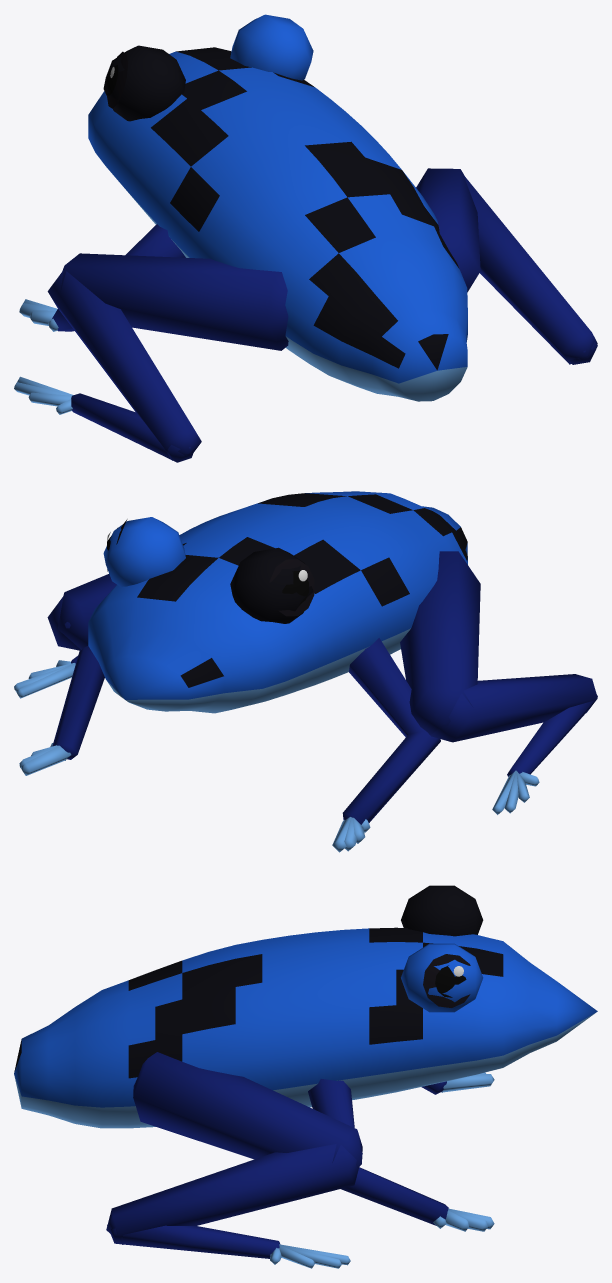
File: dart_frog.glb
The picture shows the model from 3 angles, top to bottom: view 1: azimuth 30°, elevation 25°; view 2: azimuth 150°, elevation 25°; view 3: azimuth 270°, elevation 25°; orthographic projection. The views are drawn at different scales.
Parts seen in each view (by area): view 1: dart_frog; view 2: dart_frog; view 3: dart_frog.
Part boxes in pixels (x1,y1,x2,y2): dart_frog: (14, 14, 597, 462); dart_frog: (14, 491, 597, 852); dart_frog: (14, 885, 597, 1268).
Size of the model in its own units: 1.42 by 0.7013 by 1.53.
